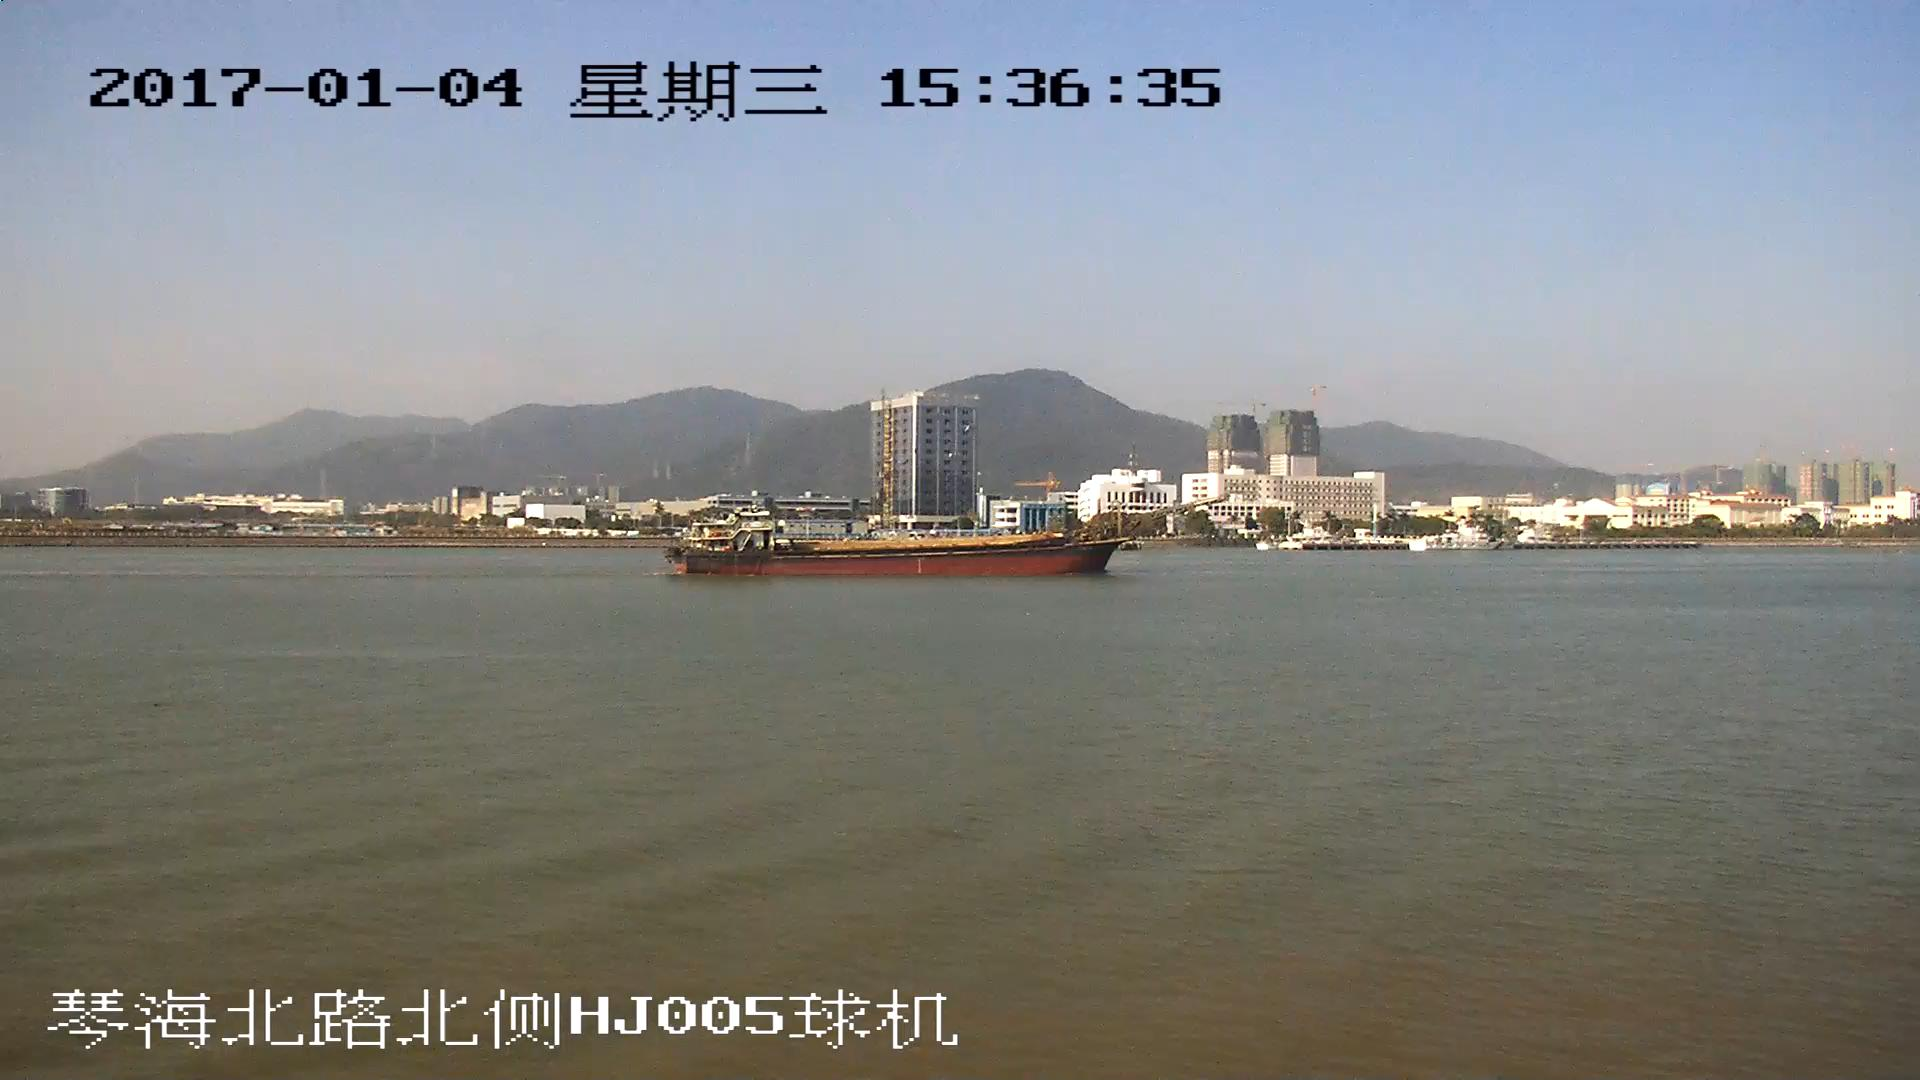bulk cargo carrier: (677, 495, 1227, 577)
